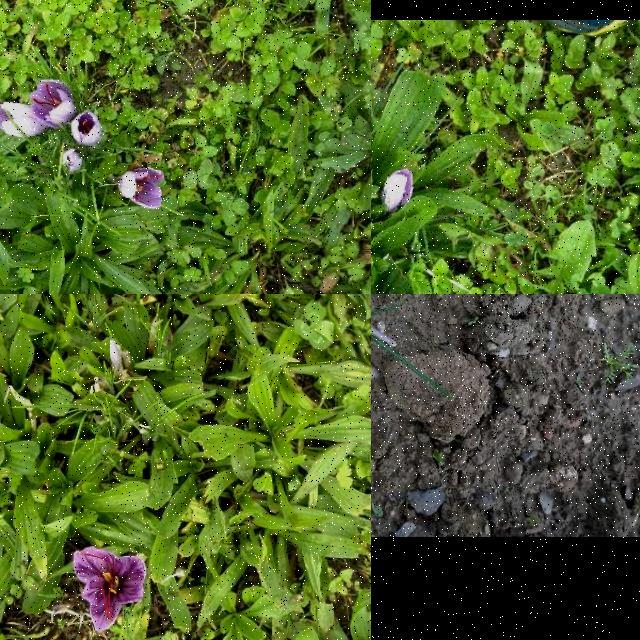flower: (74, 548, 144, 634), (29, 80, 75, 130), (118, 167, 166, 209), (0, 103, 41, 139), (383, 169, 413, 213), (71, 112, 103, 146), (62, 150, 82, 172)
